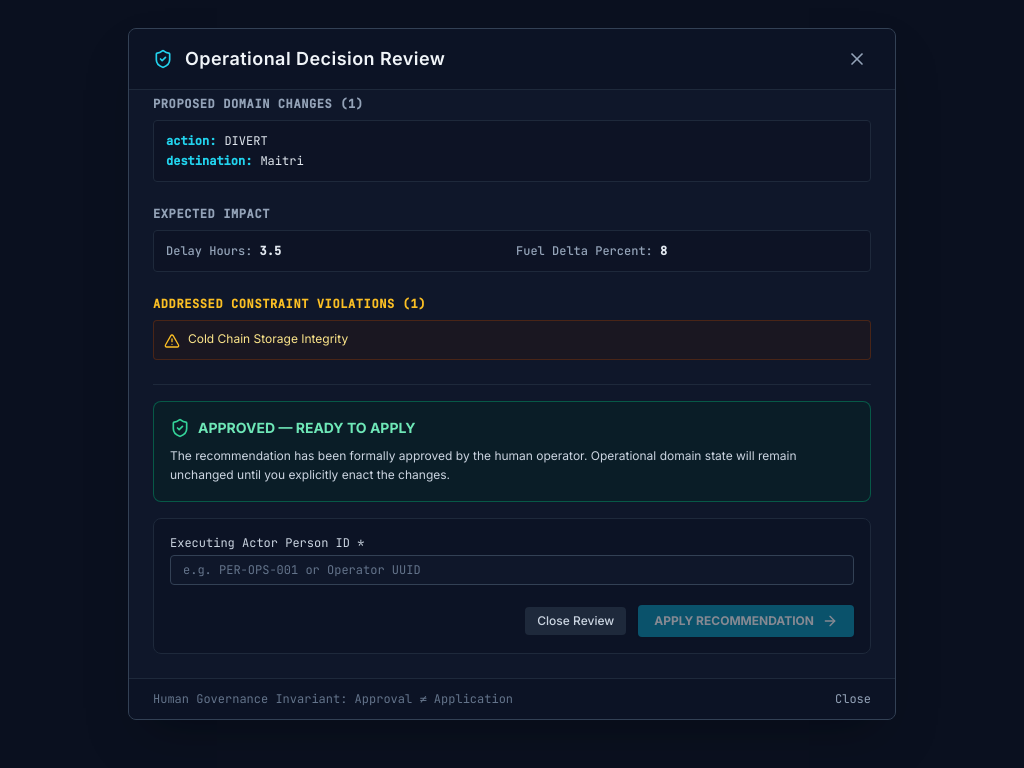
Test: ApprovalModal › executes Apply after approval only upon separate explicit click
The image size is (1024, 768).
(page scrolled)
Expected: the text "APPROVED — READY TO APPLY" is shown, [198, 418, 416, 438]
In the field with test id "apply-actor-person-id-input": [512, 570] box [170, 555, 854, 585], type "PER-LOGISTICS-OFFICER"
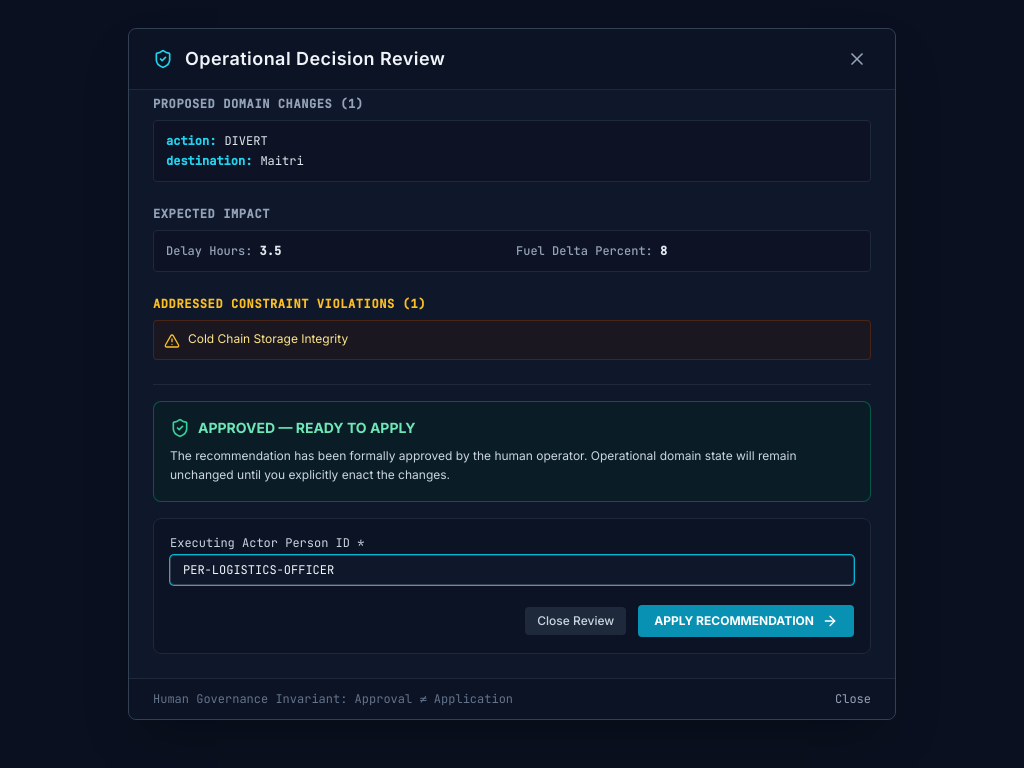
Click the button "APPLY RECOMMENDATION": [746, 621] box [638, 605, 854, 637]
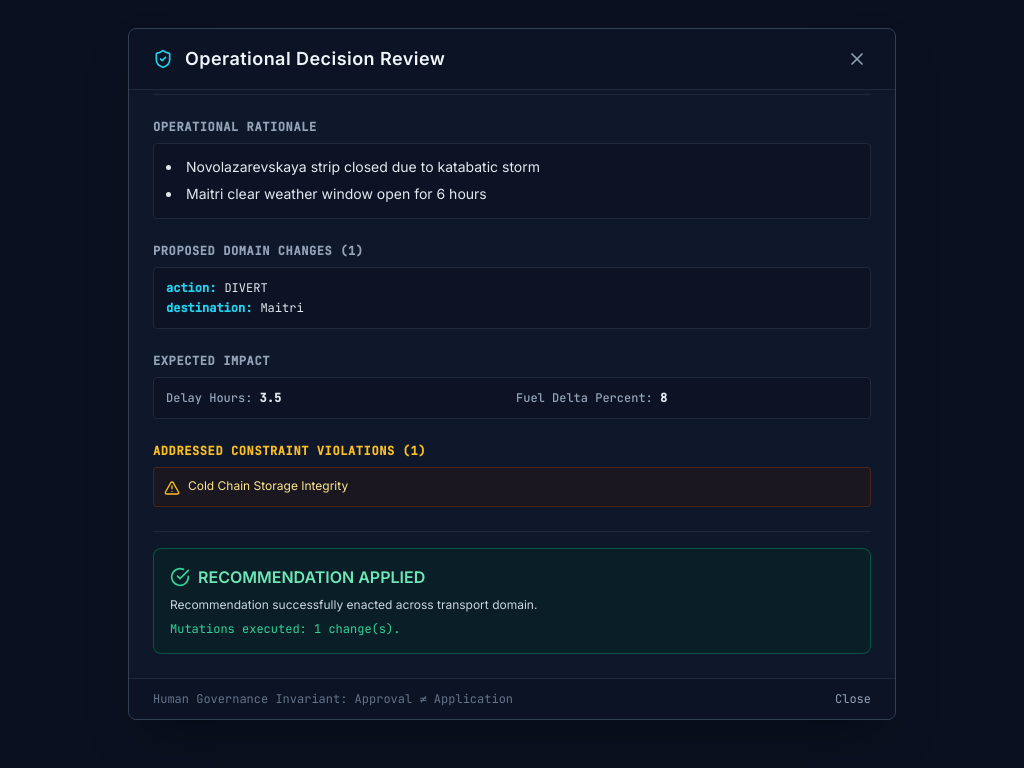
Expected: the text "RECOMMENDATION APPLIED" is shown, [198, 565, 425, 589]
Expected: the text "Recommendation successfully enacted across transport domain." is shown, [170, 597, 537, 612]
